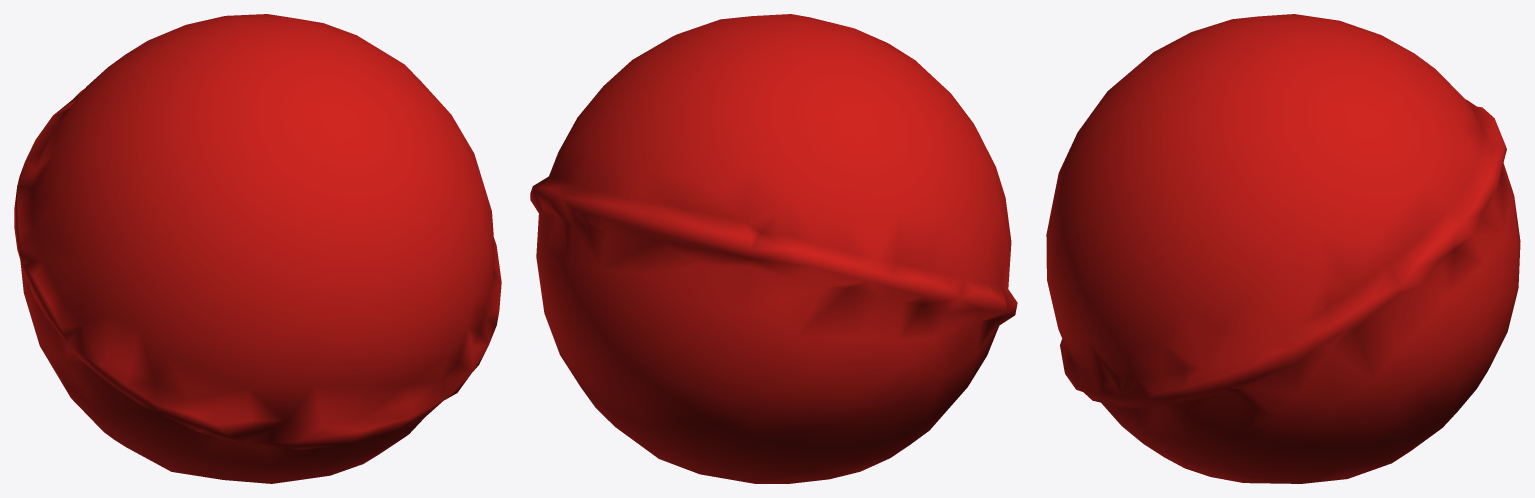
The model's file is tee_marker.glb.
3 views of the same model, side by side, from view 1: azimuth 30°, elevation 25°; view 2: azimuth 150°, elevation 25°; view 3: azimuth 270°, elevation 25° (orthographic).
Parts seen in each view (by area): view 1: tee_marker; view 2: tee_marker; view 3: tee_marker.
Boxes of the visible parts, <box> form: tee_marker: <box>14,14,501,483</box>; tee_marker: <box>530,14,1017,483</box>; tee_marker: <box>1046,14,1520,483</box>.
Bounding box in the file's own units: 0.1334 × 0.1149 × 0.1264.
